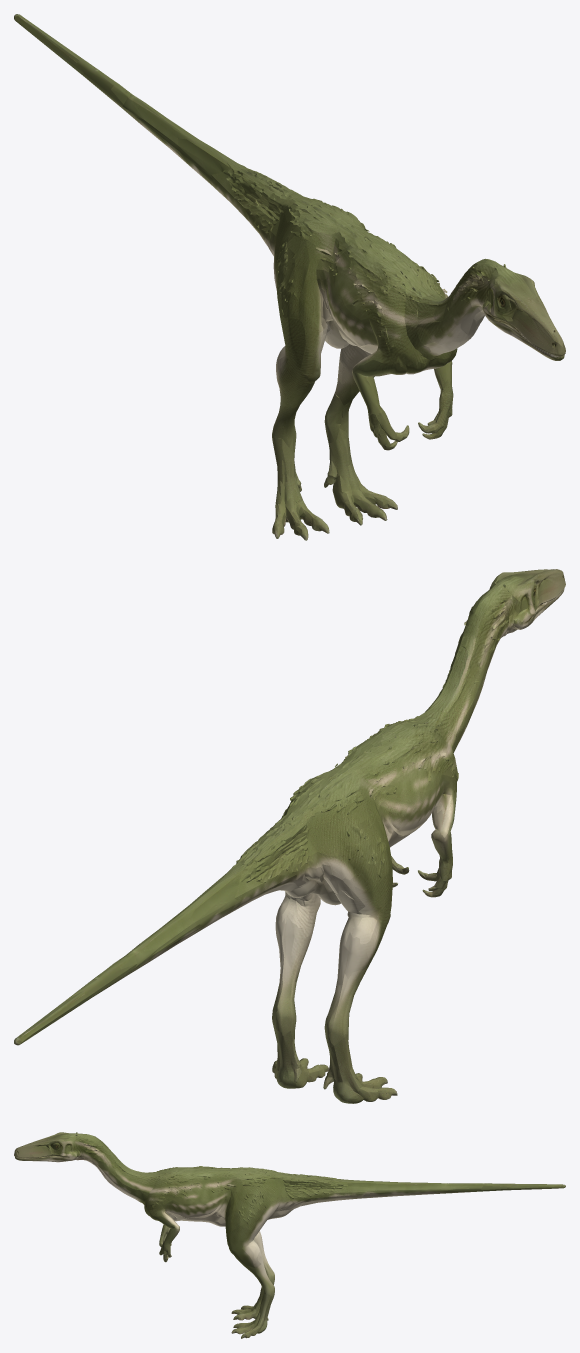
The model's file is coelophysis_i2m_v1.glb.
3 renders of one model, top to bottom at view 1: azimuth 30°, elevation 25°; view 2: azimuth 150°, elevation 25°; view 3: azimuth 270°, elevation 25°, orthographic. The views are drawn at different scales.
Parts seen in each view (by area): view 1: Mesh_0; view 2: Mesh_0; view 3: Mesh_0.
Boxes of the visible parts, box(x1,y1,x2,y2) form: Mesh_0: box(14, 14, 565, 540); Mesh_0: box(14, 569, 565, 1103); Mesh_0: box(14, 1132, 565, 1338).
Size of the model in its own units: 0.2448 by 0.7269 by 1.9.
1 material, 1 textured.
